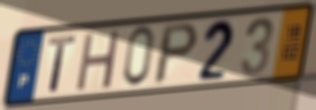0: (121, 24, 156, 91)
2: (192, 15, 238, 86)
3: (239, 16, 275, 77)
H: (74, 27, 123, 94)
P: (151, 20, 202, 88)
T: (46, 33, 79, 95)
